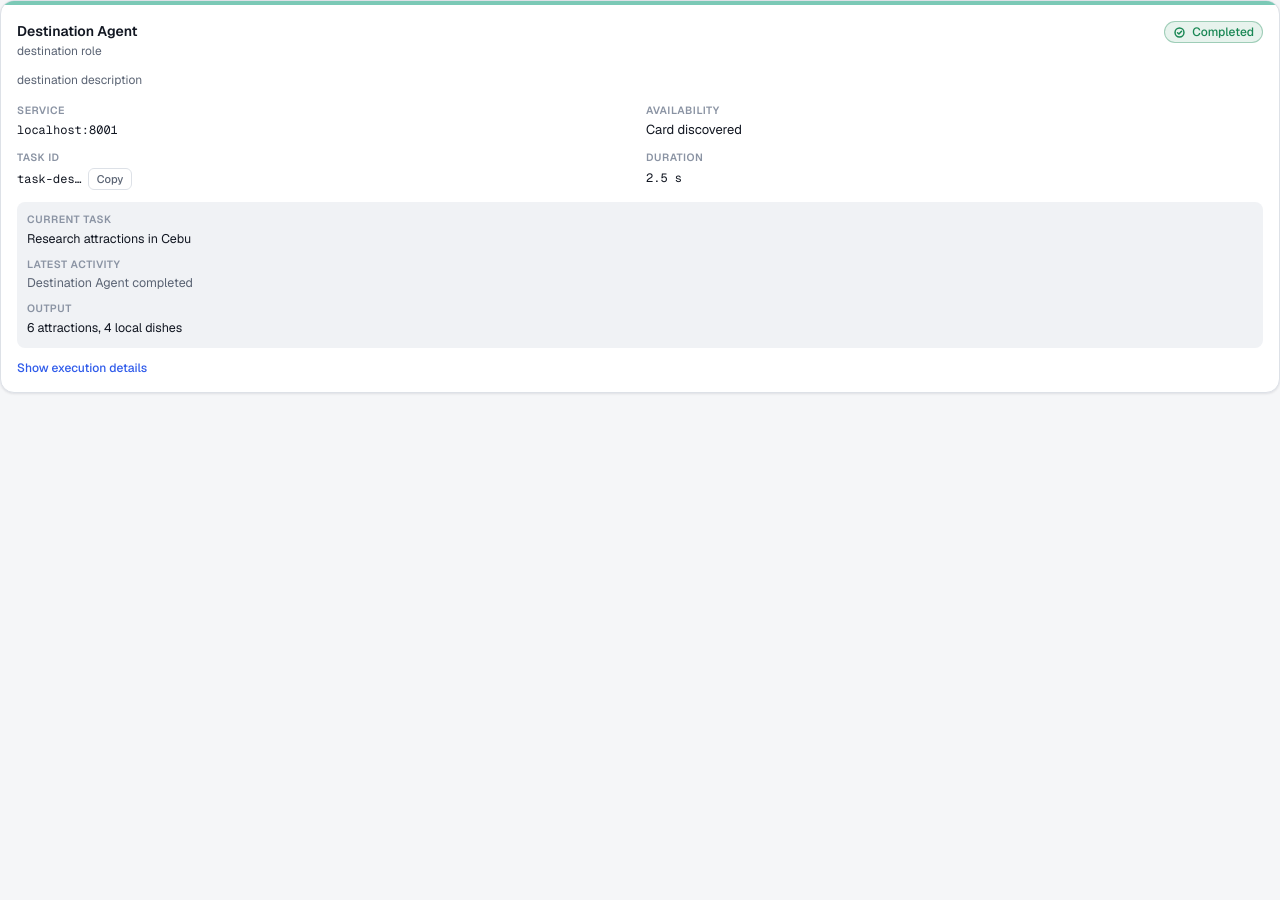
AgentCard › shows status, task, task id, duration and output summary
Check: the text with test id "current-task" reads "Research attractions in Cebu", box [27,230,191,247]
Check: the text with test id "task-id" shows "task-des", box [17,171,82,187]
What coordinates should you click on to do the following:
click the button "Show execution details"
I would click on:
 (82, 368)
Its box is [17,360,147,376].
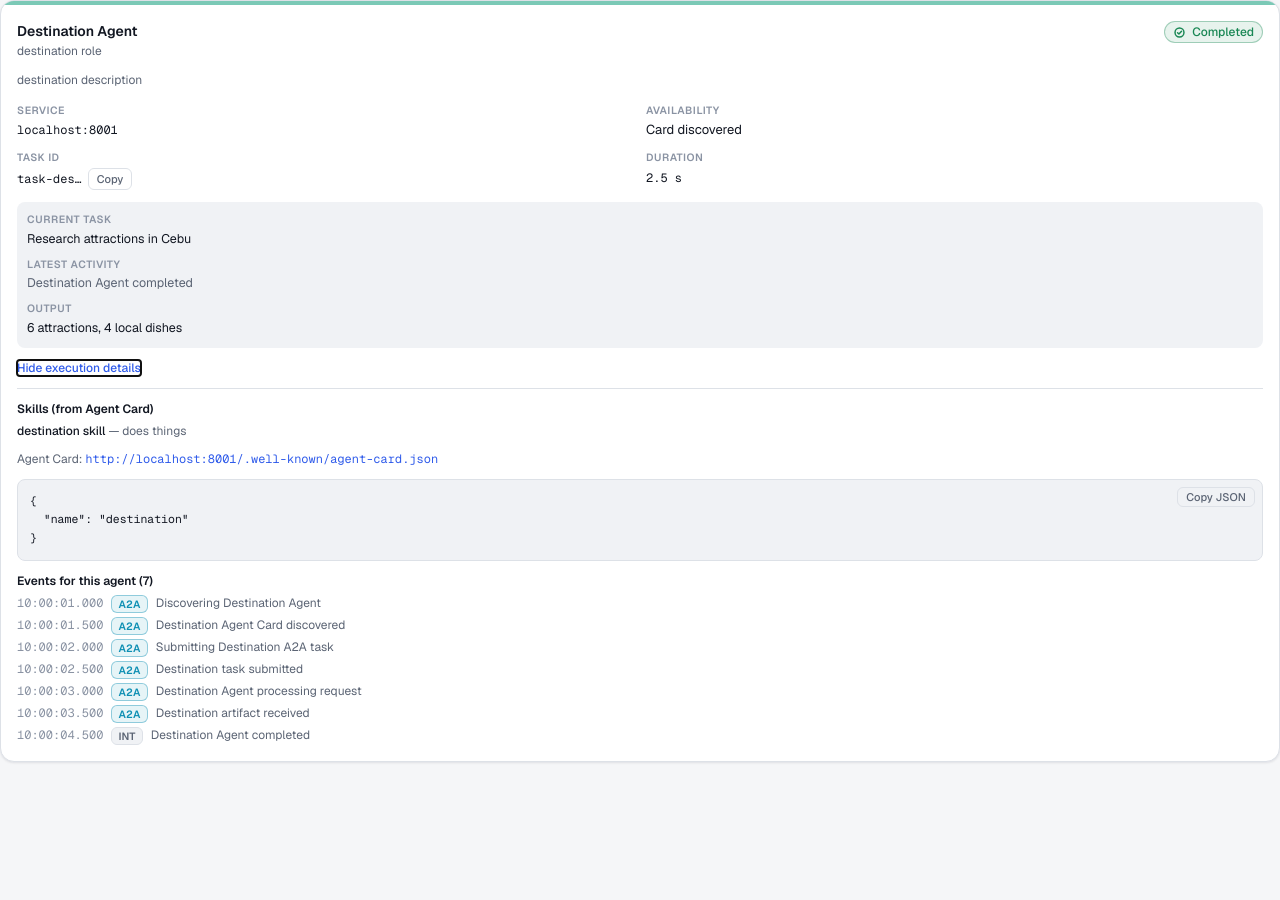
Check: the text "destination skill" is shown, box [17,422,105,438]
Check: the text "Events for this agent (7)" is shown, box [17,573,153,589]
